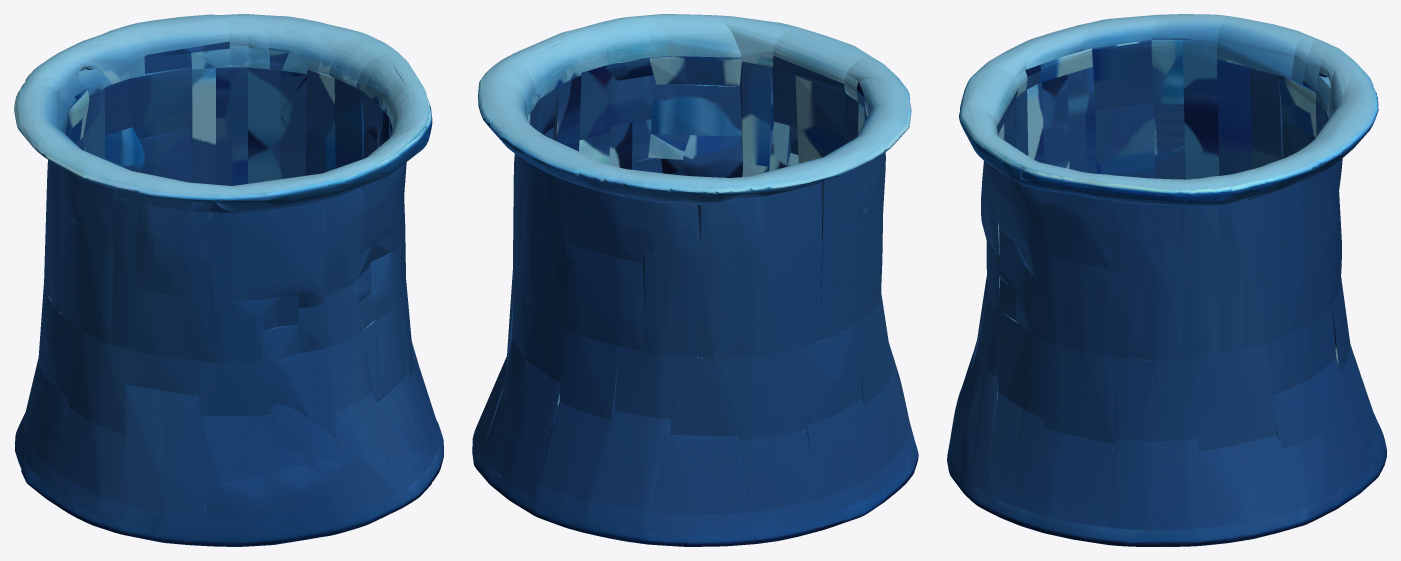
Rendered from hunyuan_recon.glb.
3 renders of one model, left to right at view 1: azimuth 30°, elevation 25°; view 2: azimuth 150°, elevation 25°; view 3: azimuth 270°, elevation 25°, orthographic. The views are drawn at different scales.
Visible parts, largest first — view 1: world; view 2: world; view 3: world.
Boxes of the visible parts, x1,y1,x2,y2 form: world: (14, 14, 443, 546); world: (472, 14, 918, 546); world: (947, 14, 1386, 546).
Bounding box in the file's own units: 0.0612 × 0.0587 × 0.0615.
Materials: 1 (1 with a texture image).
